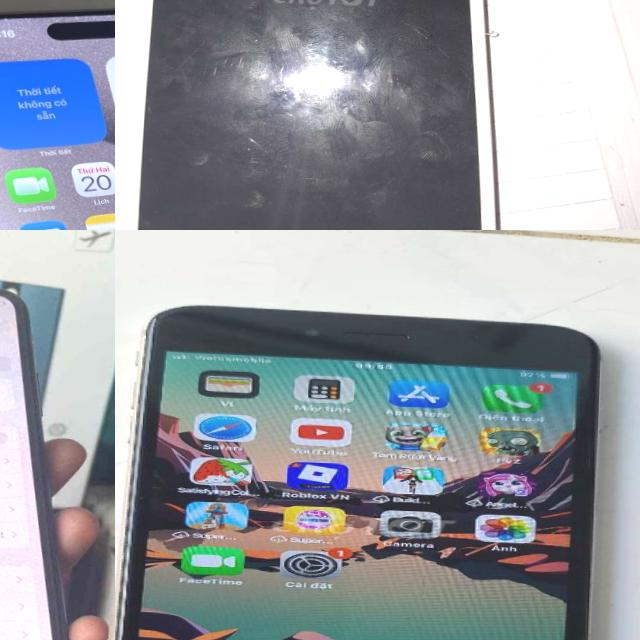gen_15: (0, 0, 115, 230)
gen_6: (115, 290, 625, 640), (124, 0, 496, 230)
gen_x_xs: (0, 279, 78, 640)
